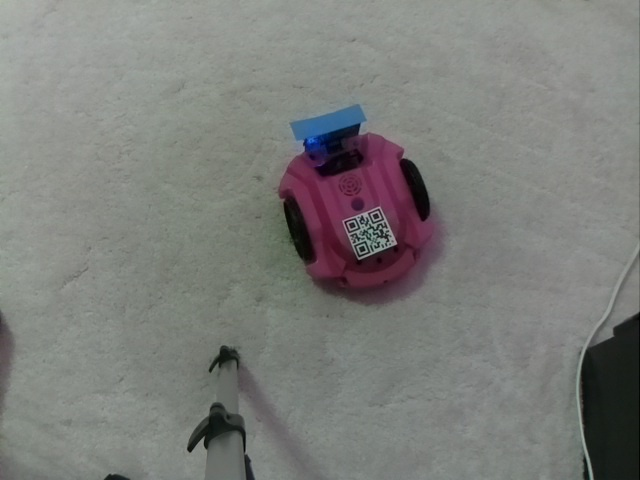chassis: (272, 104, 434, 297)
qr: (342, 207, 403, 264)
